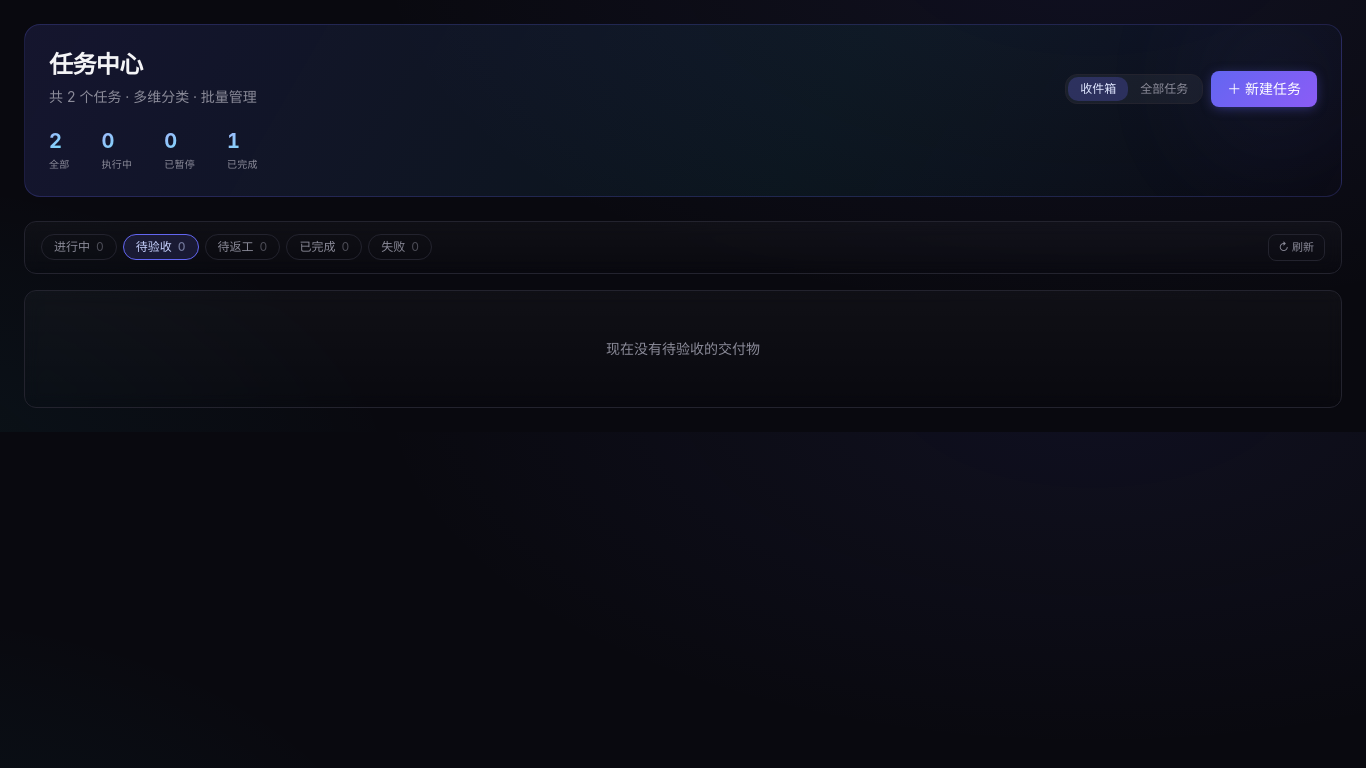
Test: 任务派发链路 › 新建任务：选中成员后按 auto_start 分发，并如实报出开始了几个
The image size is (1366, 768).
Click the button "＋ 新建任务" at {"x": 1264, "y": 89}, box [1211,71,1317,107]
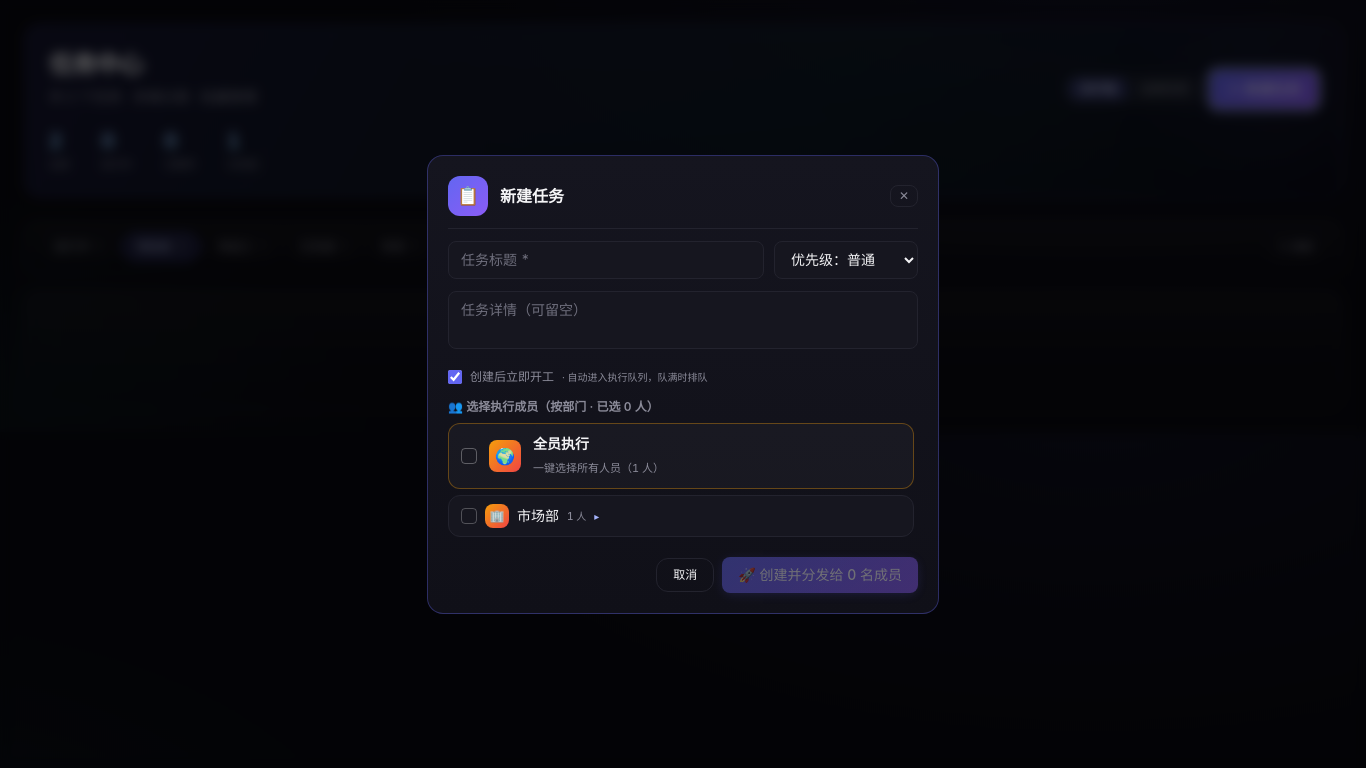
Type "整理本周销售线索" into the field with placeholder "任务标题 *" at {"x": 606, "y": 260}, box [448,240,764,278]
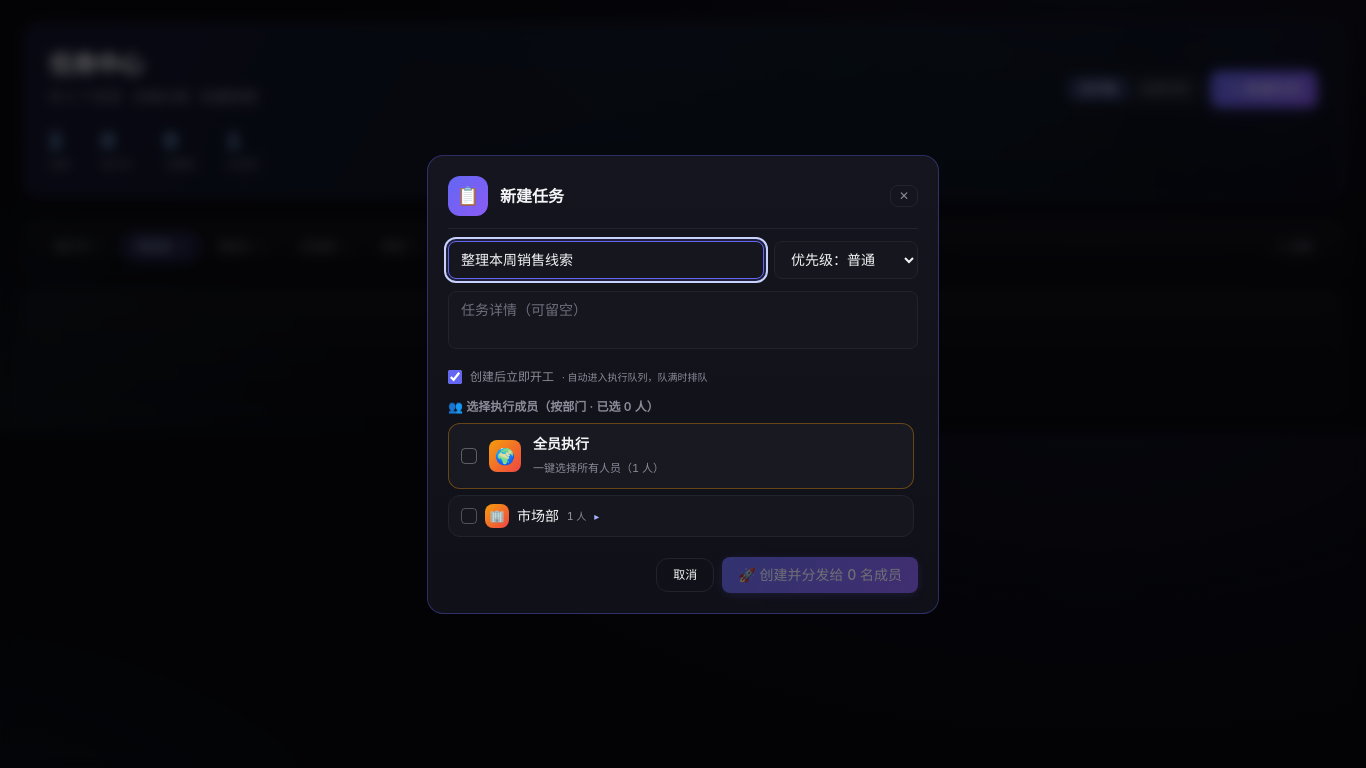
Click the button "🌍 全员执行 一键选择所有人员（1 人）" at {"x": 505, "y": 456}, box [449,424,913,488]
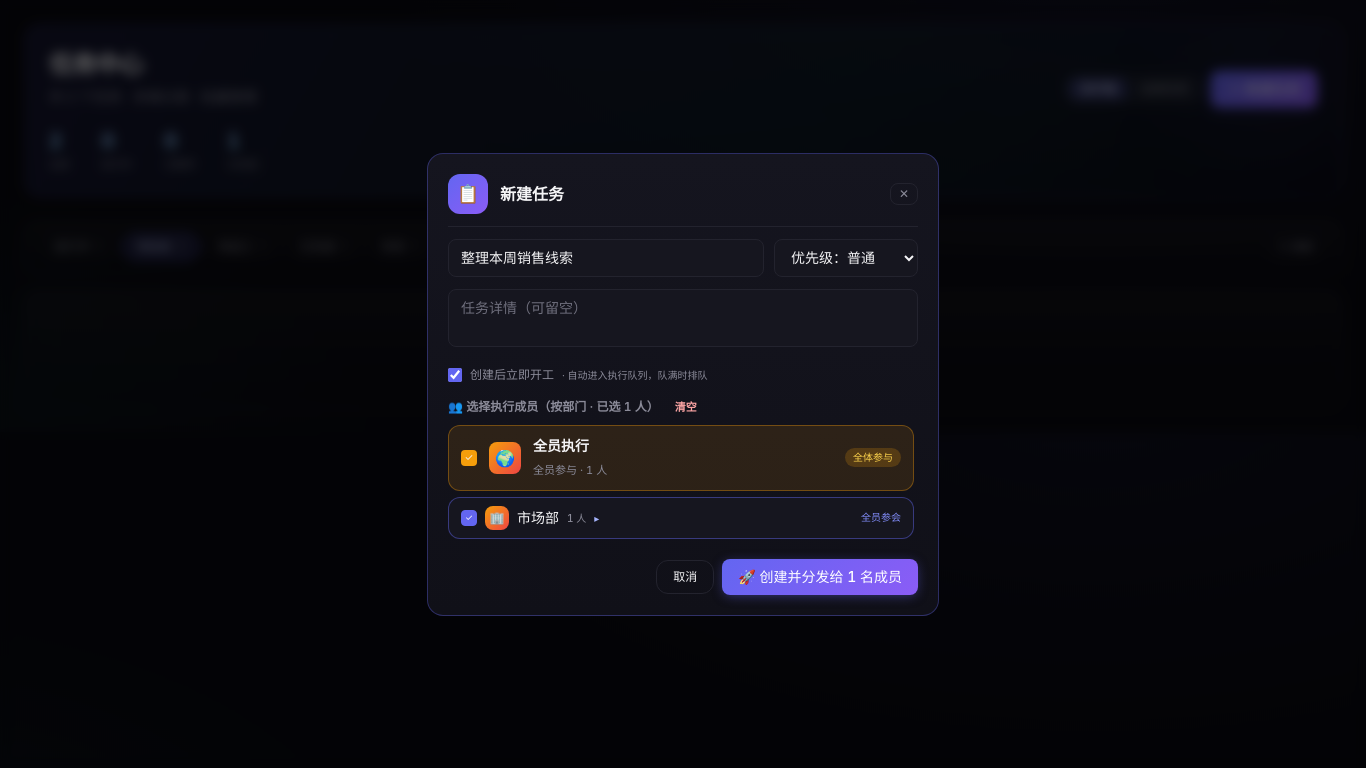
Click the button "🚀 创建并分发给 1 名成员" at {"x": 820, "y": 576}, box [722,558,918,594]
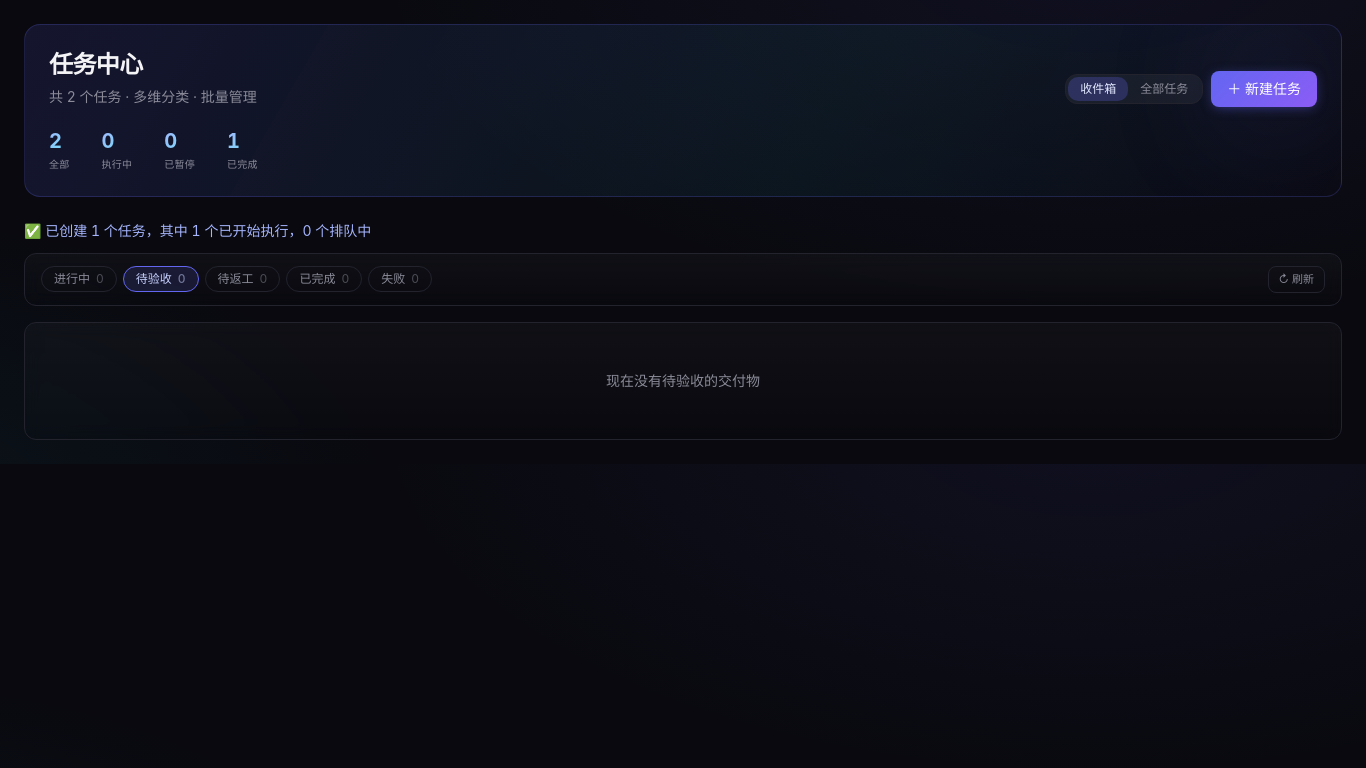
Now the text "✅ 已创建 1 个任务，其中 1 个已开始执行，0 个排队中" is shown, box [24,222,371,239]
